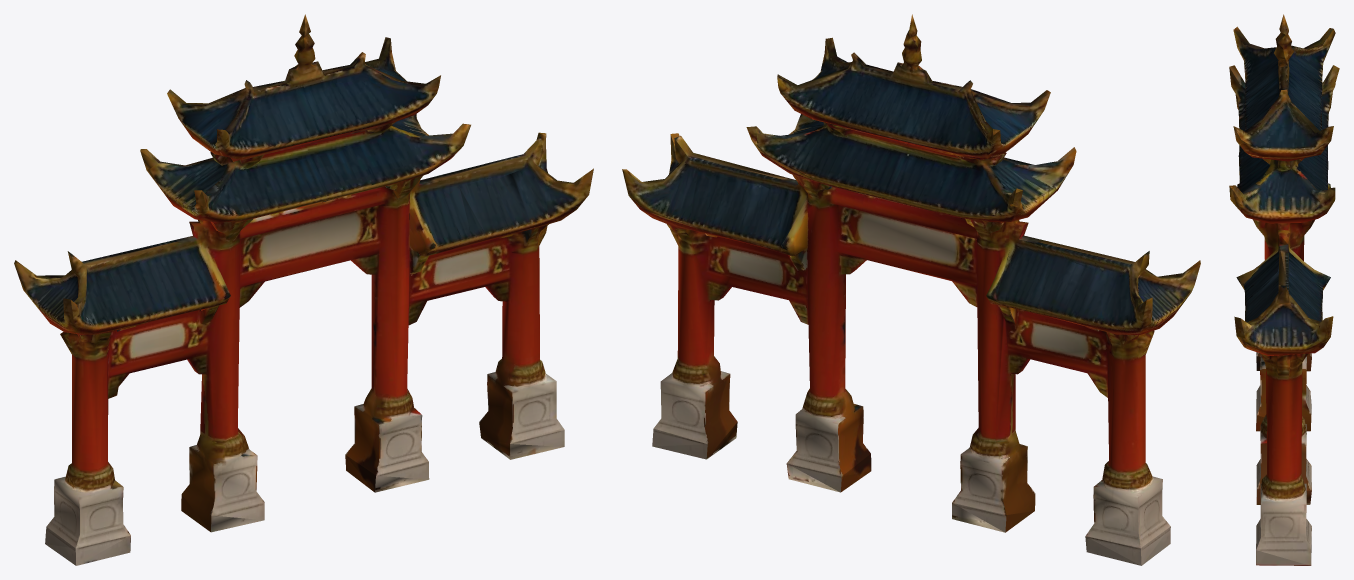
File: landmark-far.glb
The picture shows the model from 3 angles, left to right: view 1: azimuth 30°, elevation 25°; view 2: azimuth 150°, elevation 25°; view 3: azimuth 270°, elevation 25°; orthographic projection. The views are drawn at different scales.
Parts seen in each view (by area): view 1: landmark-far; view 2: landmark-far; view 3: landmark-far.
Boxes of the visible parts, box(x1,y1,x2,y2) form: landmark-far: box(14, 14, 593, 565); landmark-far: box(622, 14, 1200, 565); landmark-far: box(1229, 14, 1339, 565).
Size of the model in its own units: 16.17 by 14 by 3.17.
Materials: 1 (1 with a texture image).
